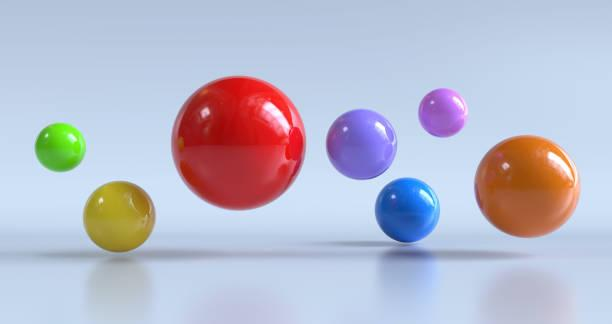Red_Ball: (155, 72, 314, 214)
